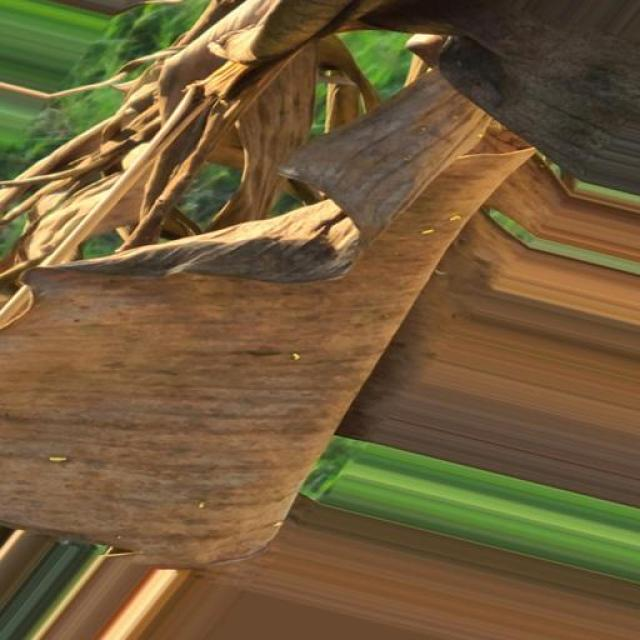Bract_mosaic_virus: (22, 0, 640, 244), (0, 173, 306, 569), (306, 239, 520, 458)
